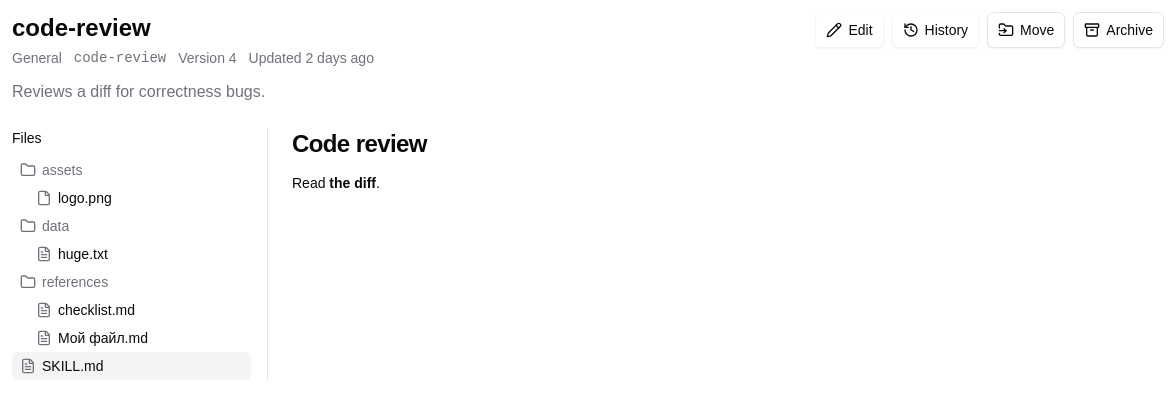
Test case: skill page › a file over 1 MiB is not fetched: size and "Download" instead
Click the list item "huge.txt".
click(132, 254)  # box [12,240,251,268]
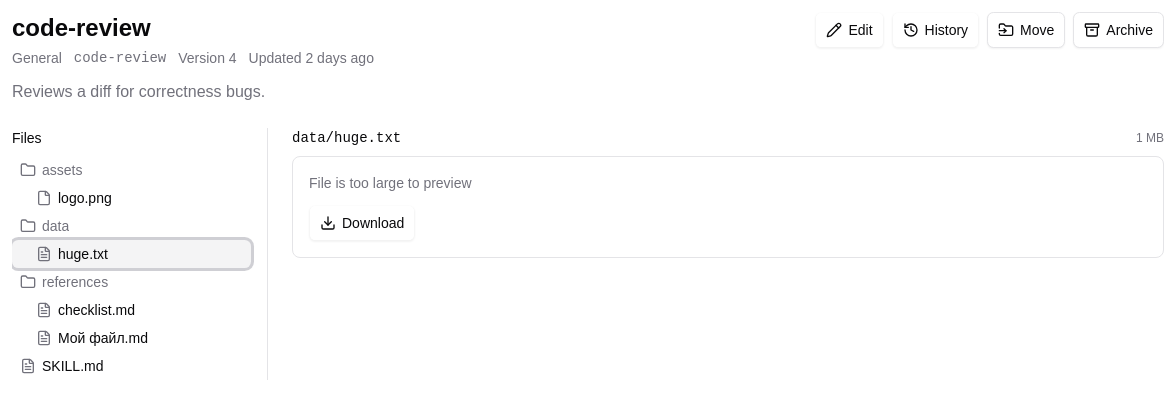
Check: the text "1 MB" is shown, box [1136,130,1164,146]
